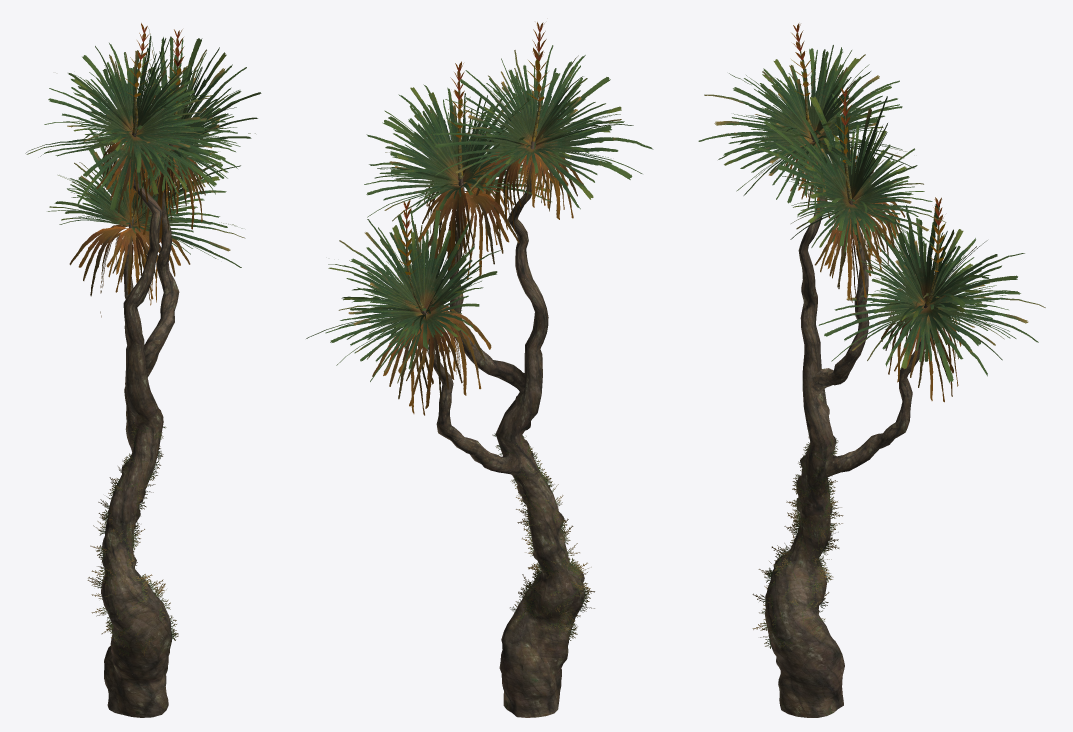
Rendered from Tree - Alien Tree 09 2-99CkTtEf.glb.
3 views of the same model, side by side, from view 1: azimuth 30°, elevation 25°; view 2: azimuth 150°, elevation 25°; view 3: azimuth 270°, elevation 25° (orthographic).
Visible parts, largest first — view 1: Tree_09_2_L0(Clone); view 2: Tree_09_2_L0(Clone); view 3: Tree_09_2_L0(Clone).
Boxes of the visible parts, bbox=[...] form: Tree_09_2_L0(Clone): bbox=[25, 23, 261, 717]; Tree_09_2_L0(Clone): bbox=[306, 22, 653, 717]; Tree_09_2_L0(Clone): bbox=[698, 23, 1045, 717].
Bounding box in the file's own units: 5.07 × 12.35 × 5.98.
3 materials, 3 textured.
